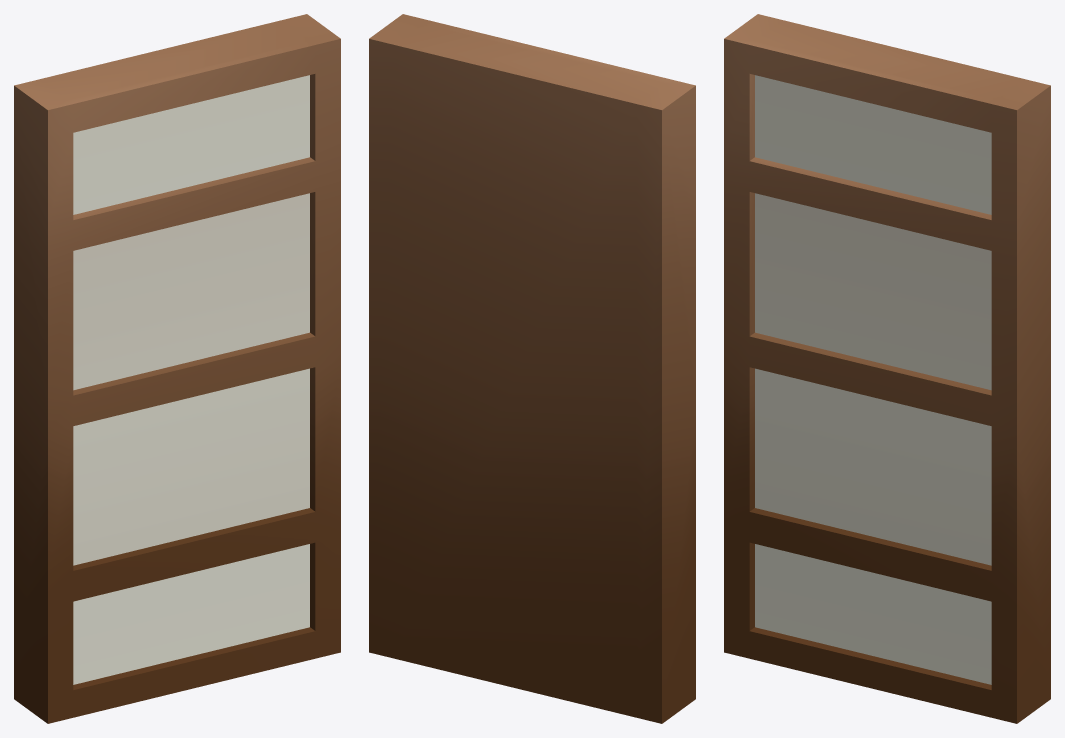
Rendered from Farmhouse_Wall_1m.gltf.
The picture shows the model from 3 angles, left to right: view 1: azimuth 30°, elevation 25°; view 2: azimuth 150°, elevation 25°; view 3: azimuth 330°, elevation 25°; orthographic projection.
Visible parts, largest first — view 1: Farmhouse_Wall_1m; view 2: Farmhouse_Wall_1m; view 3: Farmhouse_Wall_1m.
Part boxes in pixels (box(x1,y1,x2,y2)): Farmhouse_Wall_1m: box(14, 14, 340, 723); Farmhouse_Wall_1m: box(369, 14, 695, 723); Farmhouse_Wall_1m: box(724, 14, 1050, 723).
Size of the model in its own units: 1 by 2 by 0.2.
1 material, 1 textured.
